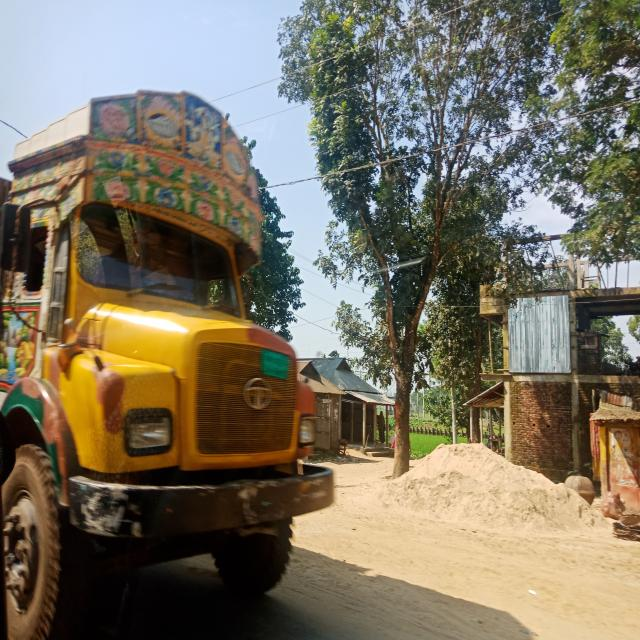truck: (0, 81, 337, 638)
